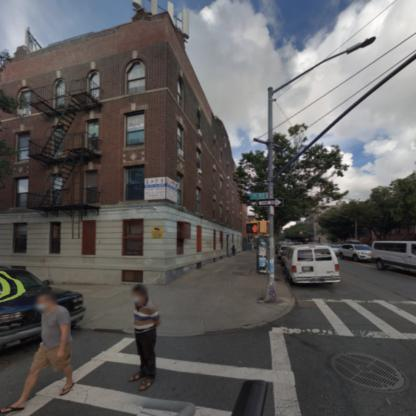Streetlights 1: (235, 29, 380, 322)
